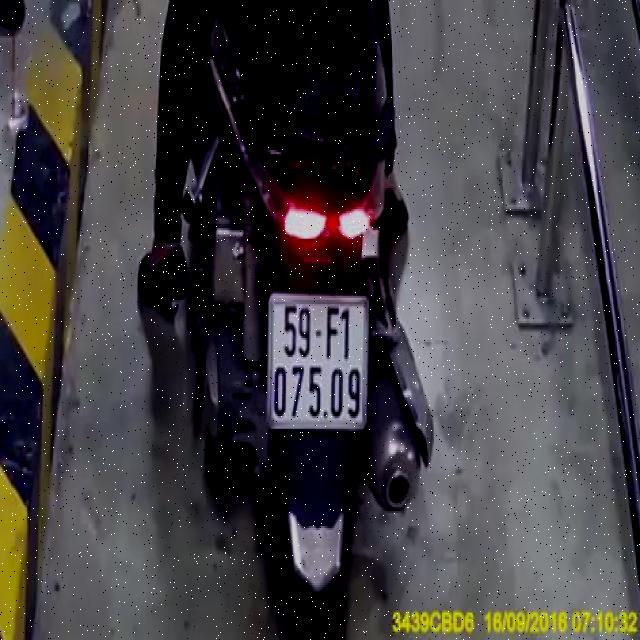0: (274, 365, 288, 421), (330, 367, 344, 418)
1: (340, 307, 352, 362)
5: (308, 363, 322, 419), (284, 304, 297, 358)
7: (290, 363, 306, 419)
9: (347, 366, 361, 418), (298, 305, 311, 359)
F: (325, 304, 340, 362)
